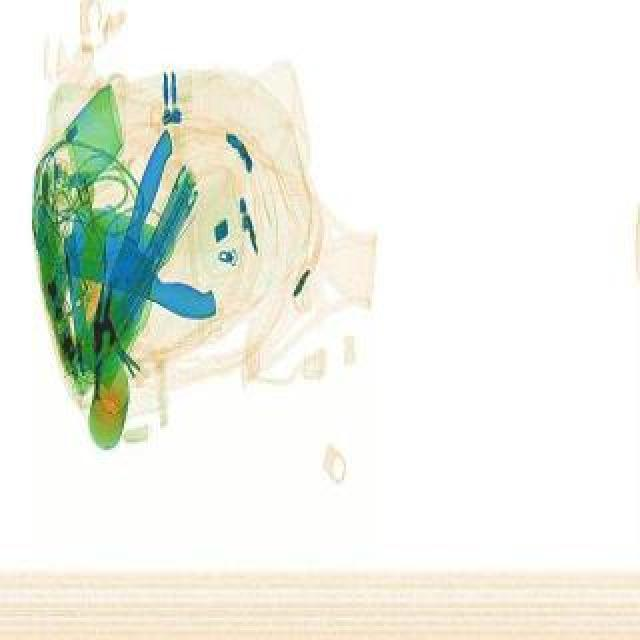knife: (62, 128, 218, 380), (52, 202, 236, 322)
